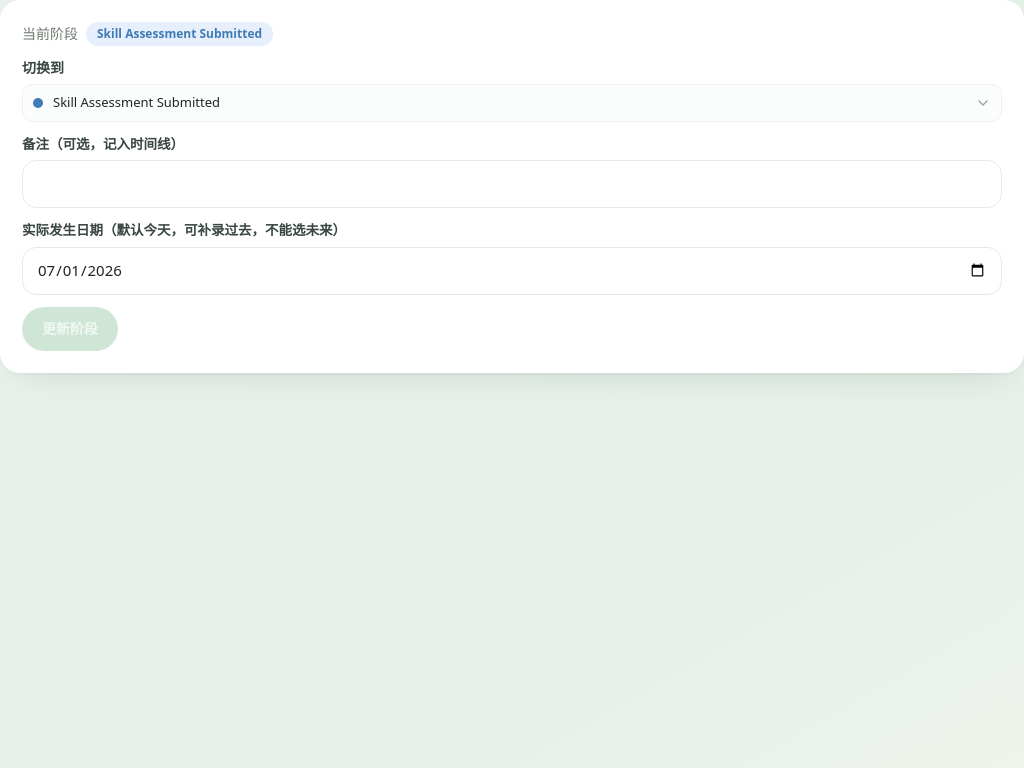
Scenario: StageControl · 职业评估专属阶段（FancySelect · 7 个英文阶段 · 禁未来） › 职业评估：切换到 = FancySelect，展开恰好列出 7 个英文阶段（当前在集合内不前置）
This screenshot has width=1024, height=768.
Click the button with aria-label "切换到" at point(137, 102), box [22, 84, 1002, 122]
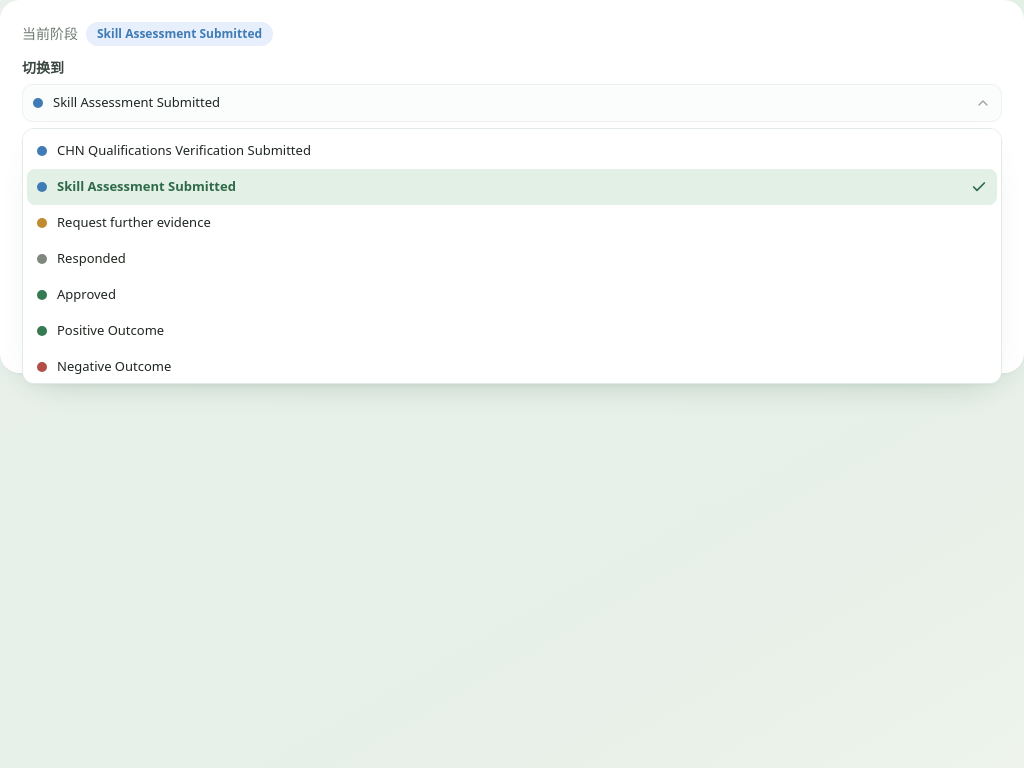
Now the number of options is 7
Now the option "CHN Qualifications Verification Submitted" is shown, box [27, 133, 997, 169]
Now the option "Skill Assessment Submitted" is shown, box [27, 169, 997, 205]
